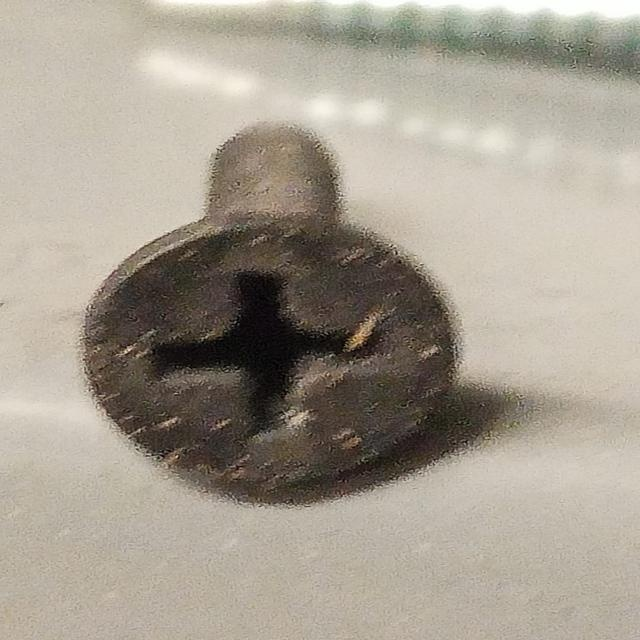phillips: (82, 212, 462, 493)
